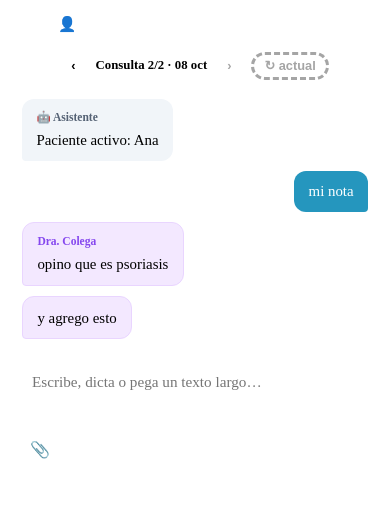
Test: IntakeChat — enviar › manda el texto por la sesión propia y relee el hilo
Type "  nuevo  " into the text box with placeholder "Escribe, dicta o pega un texto largo…". click: [195, 392]
box: [20,363,370,421]
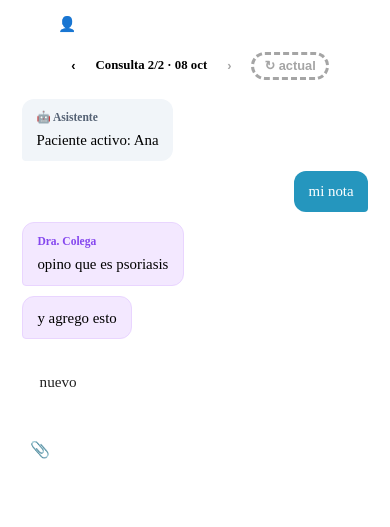
Submit the form with class "icomposer", box [8,353,382,479]
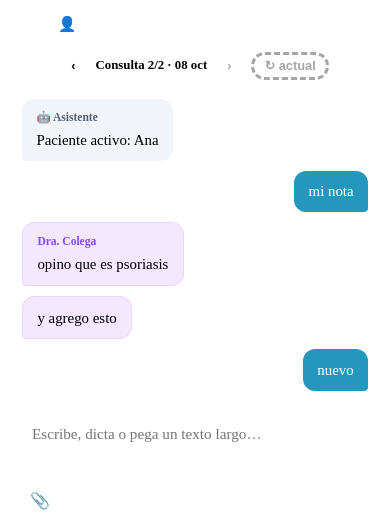
Result: the text "nuevo" is shown at [317,359,354,381]
Result: the text box with placeholder "Escribe, dicta o pega un texto largo…" is empty at [20,415,370,473]
